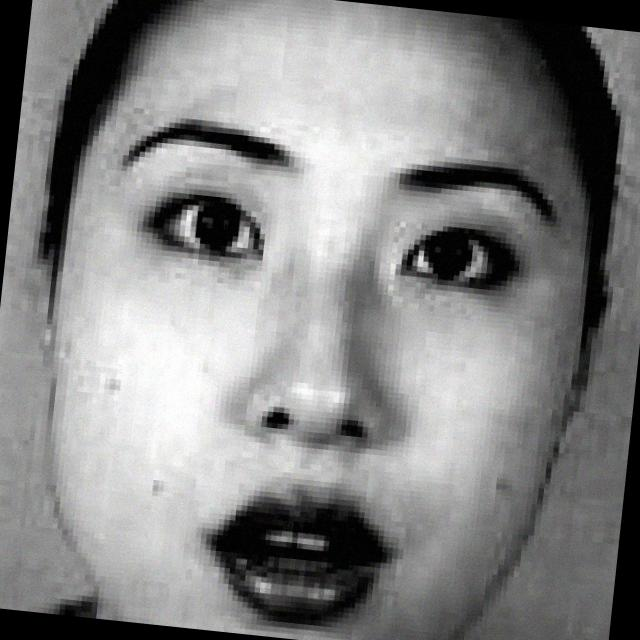surprise: (20, 7, 593, 640)
